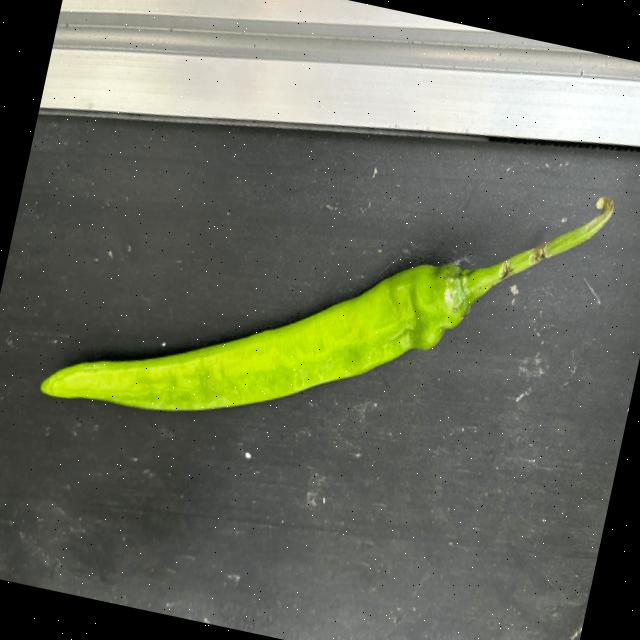chili: (34, 262, 473, 411)
